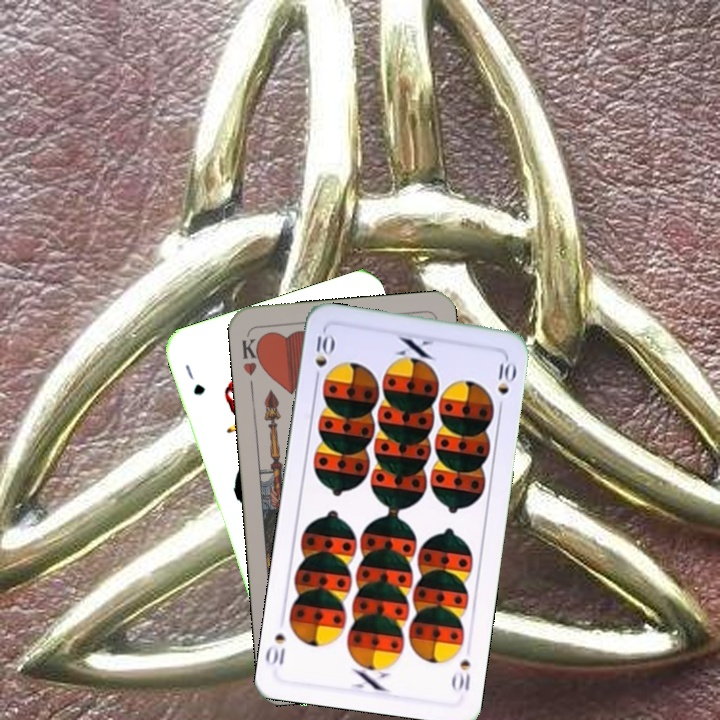GU: (181, 360, 208, 398)
HK: (238, 331, 266, 378)
S10: (311, 330, 336, 386), (448, 656, 473, 694)
